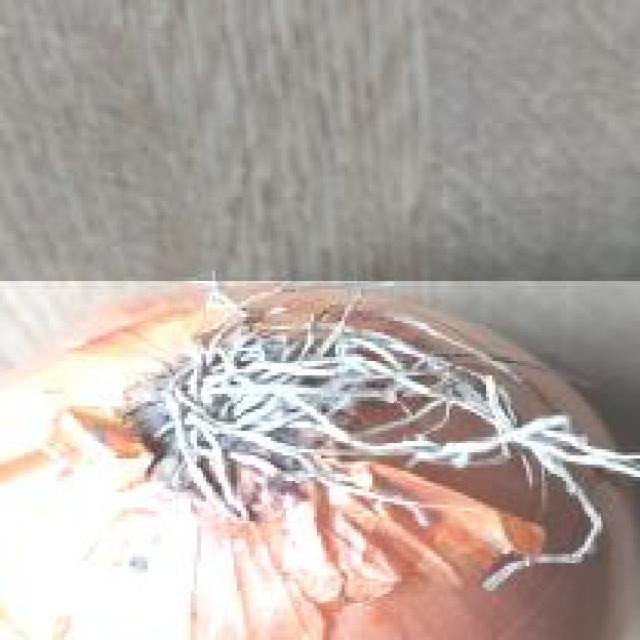onion: (0, 277, 640, 640)
